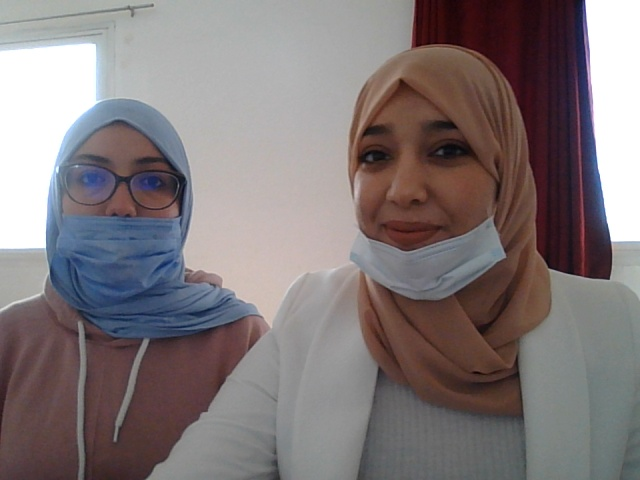mask_weared_incorrect: (338, 53, 527, 305), (59, 118, 180, 286)
